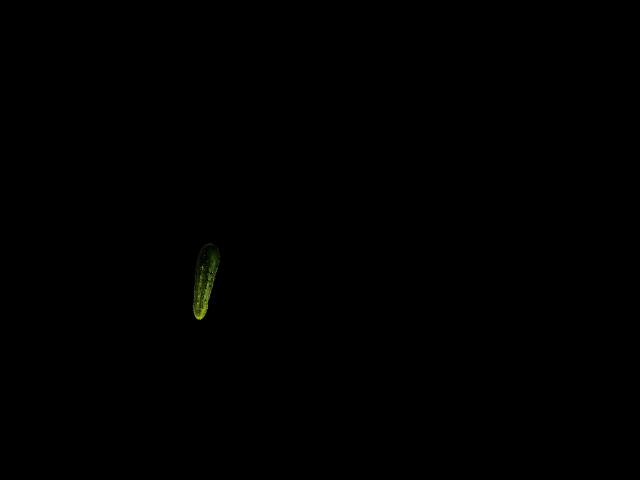cucumber: (186, 240, 222, 320)
